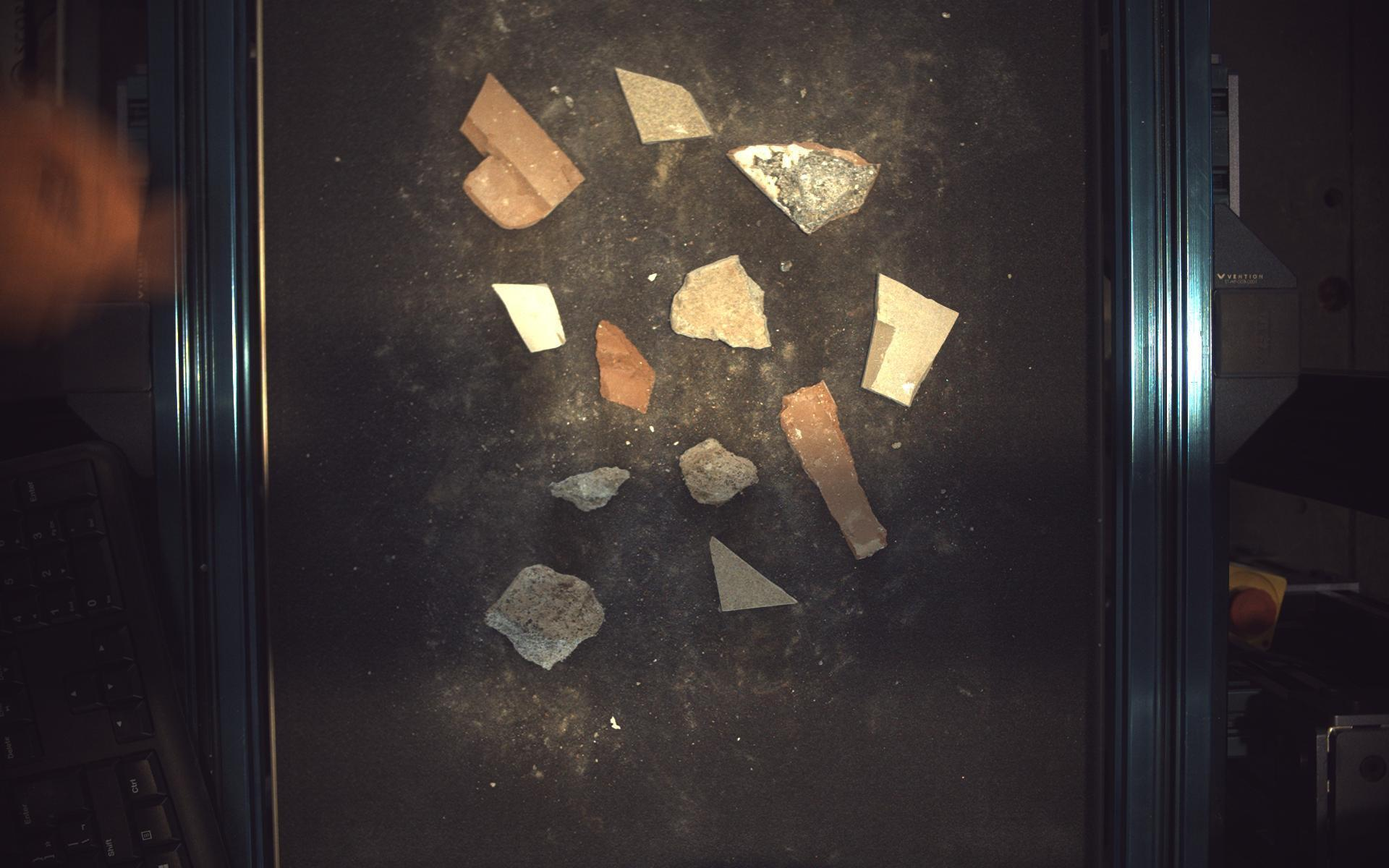brick: (782, 380, 889, 561), (461, 72, 584, 229), (729, 140, 881, 233), (596, 320, 655, 413)
concrete: (485, 565, 605, 670), (671, 254, 773, 349), (680, 438, 760, 506), (551, 467, 631, 511)
tile: (864, 273, 960, 407), (617, 66, 714, 142), (710, 537, 798, 613), (493, 284, 566, 352)
